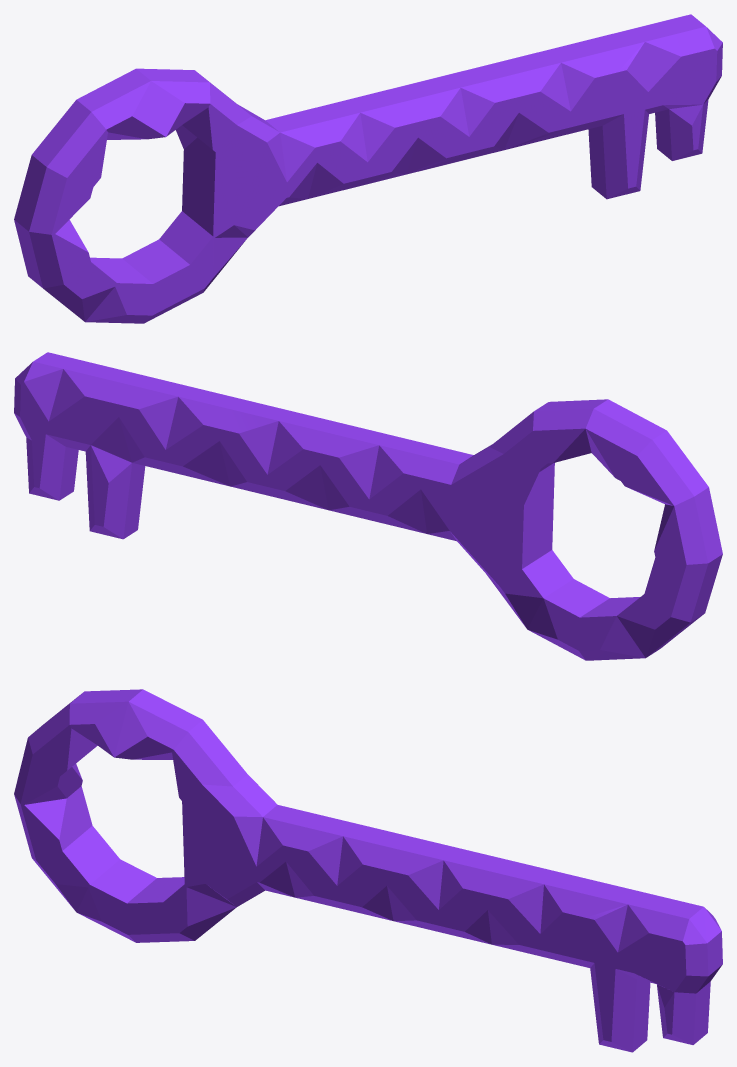
Rendered from purpleKey.glb.
The picture shows the model from 3 angles, top to bottom: view 1: azimuth 30°, elevation 25°; view 2: azimuth 150°, elevation 25°; view 3: azimuth 330°, elevation 25°; orthographic projection.
Parts seen in each view (by area): view 1: Circle.024; view 2: Circle.024; view 3: Circle.024.
Part boxes in pixels (box(x1,y1,x2,y2)): Circle.024: box(14, 14, 722, 323); Circle.024: box(14, 352, 722, 660); Circle.024: box(14, 689, 722, 1052).
Bounding box in the file's own units: 1.89 × 0.6483 × 0.217.
1 material, 1 textured.
